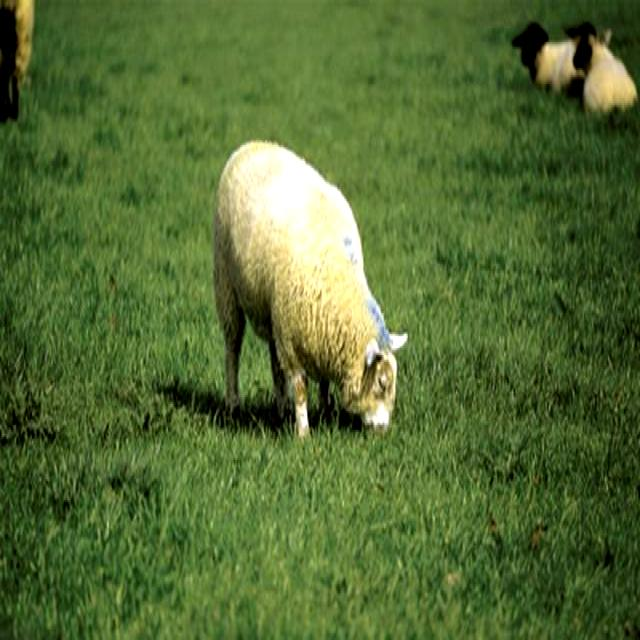sheep: (211, 145, 410, 438)
